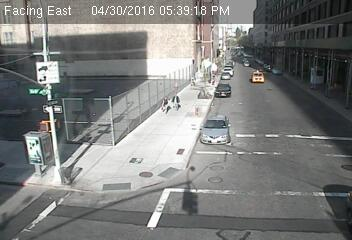neg: (79, 103, 101, 132), (28, 34, 47, 59), (117, 75, 132, 95), (166, 45, 181, 64), (84, 23, 97, 41)
pos: (169, 91, 183, 110), (154, 95, 168, 113), (207, 71, 219, 88)
